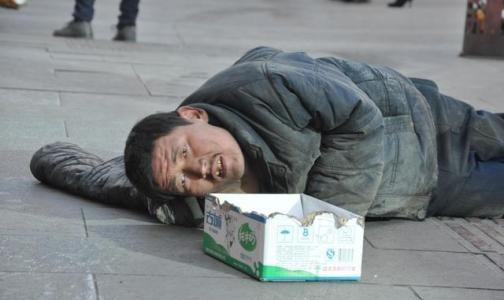falling: (115, 33, 504, 238)
